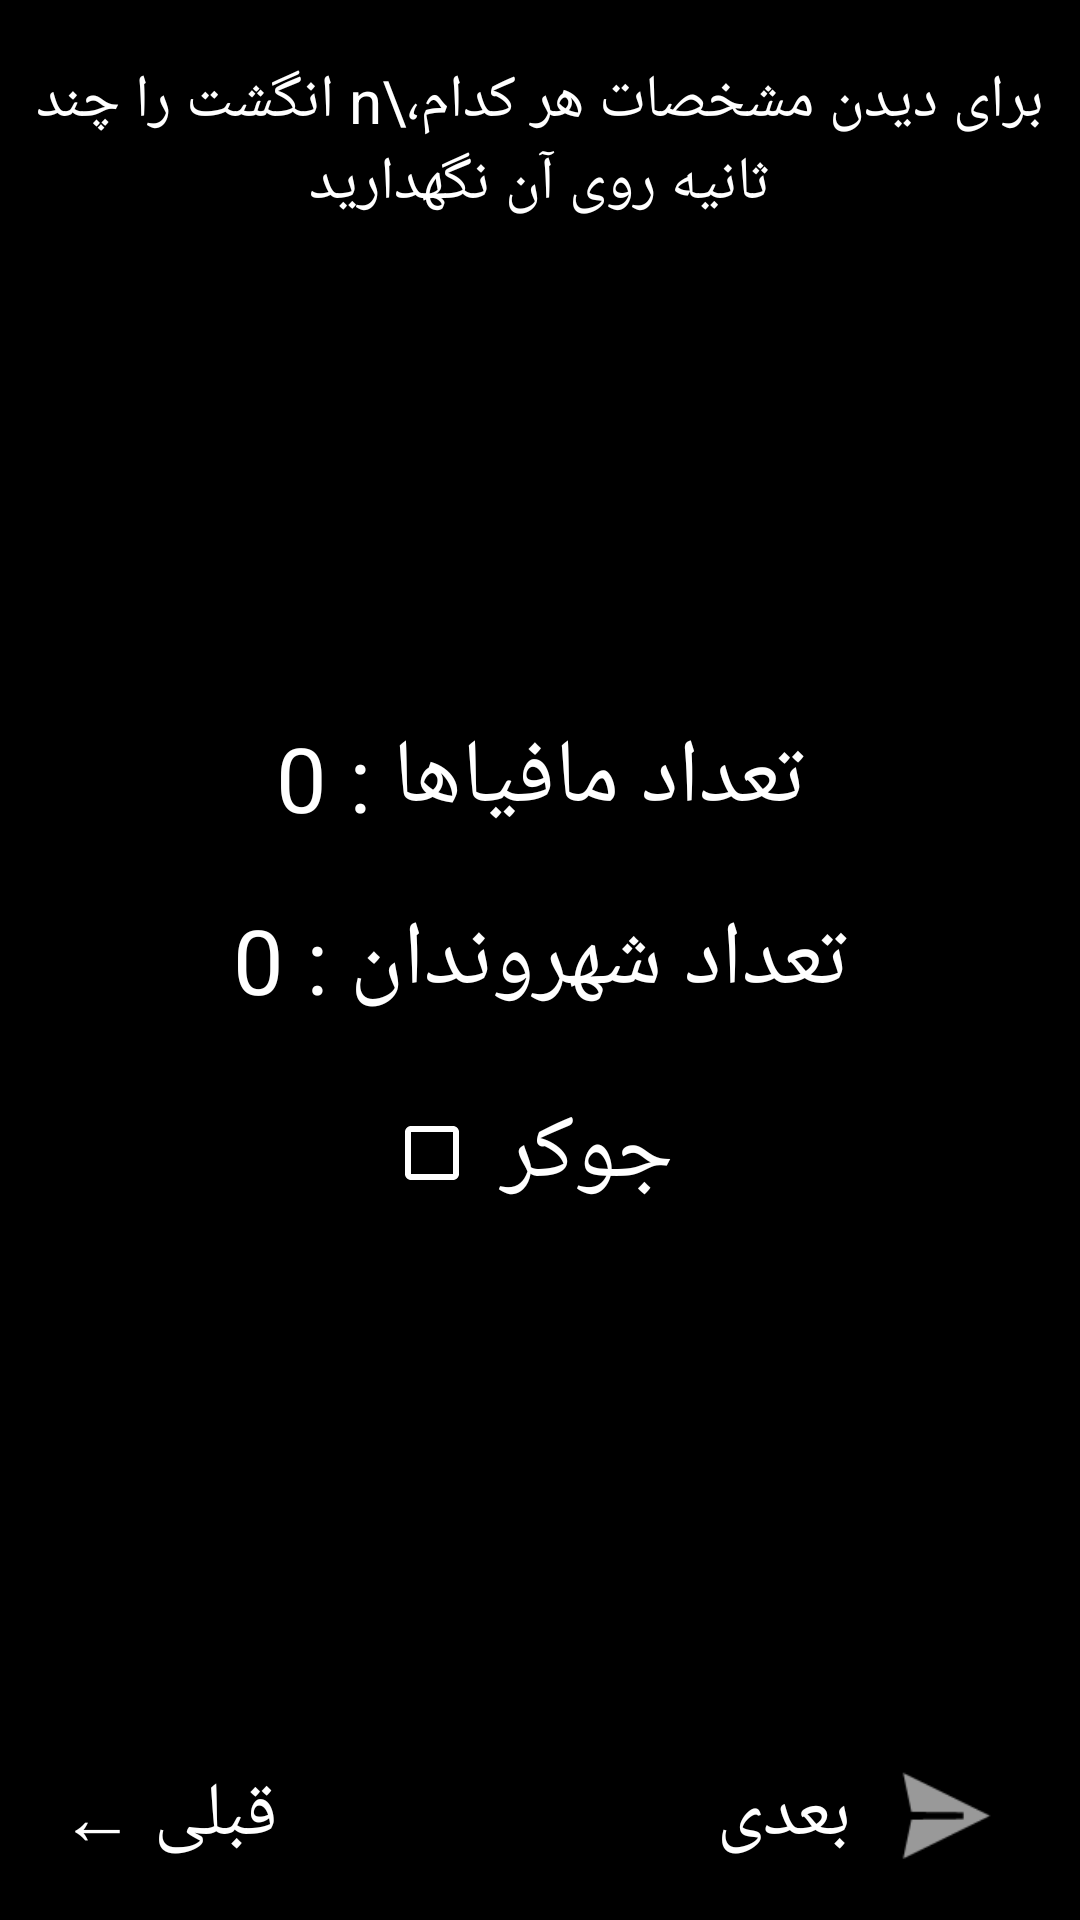

Screen size 1080w x 1920h. Icon name, then its center in pixels as (x=x, y=y):
send: (x=946, y=1816)
